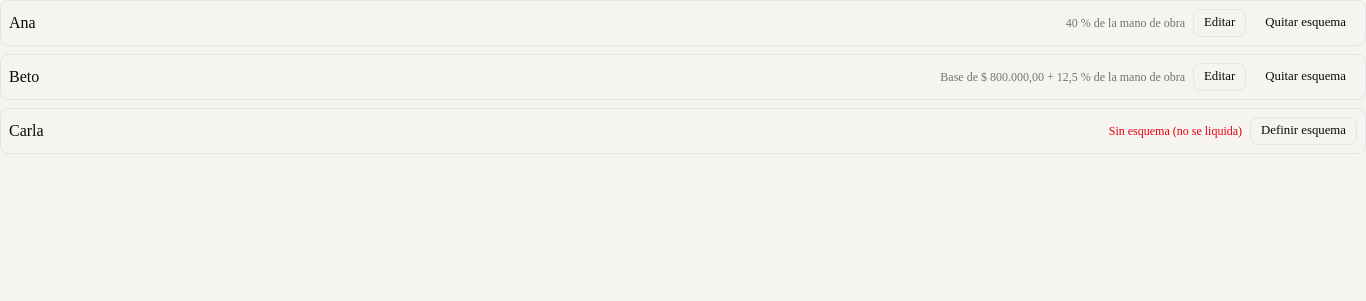
Test case: EsquemaLiquidacionSection › oculta el monto base cuando el tipo es solo porcentaje
Click the button "Editar" next to "40 % de la mano de obra": [1220, 23] box [1193,9,1246,37]
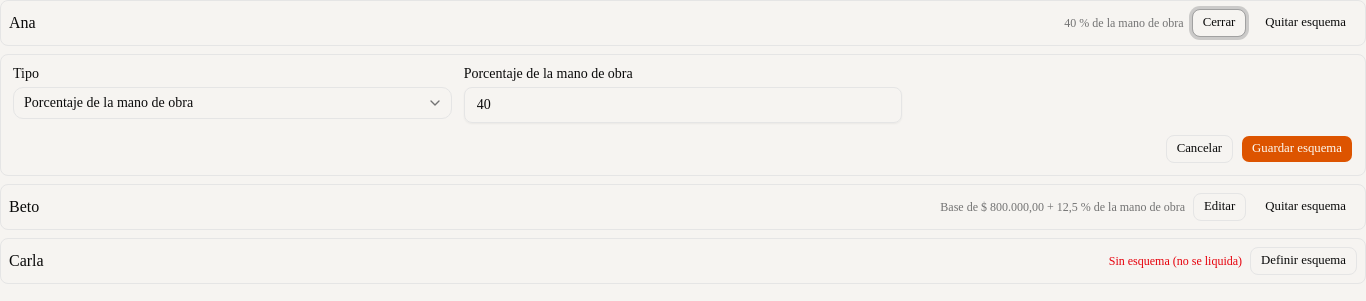
Expected: the number field labelled "Porcentaje de la mano de obra" is shown, [464,87,902,123]
